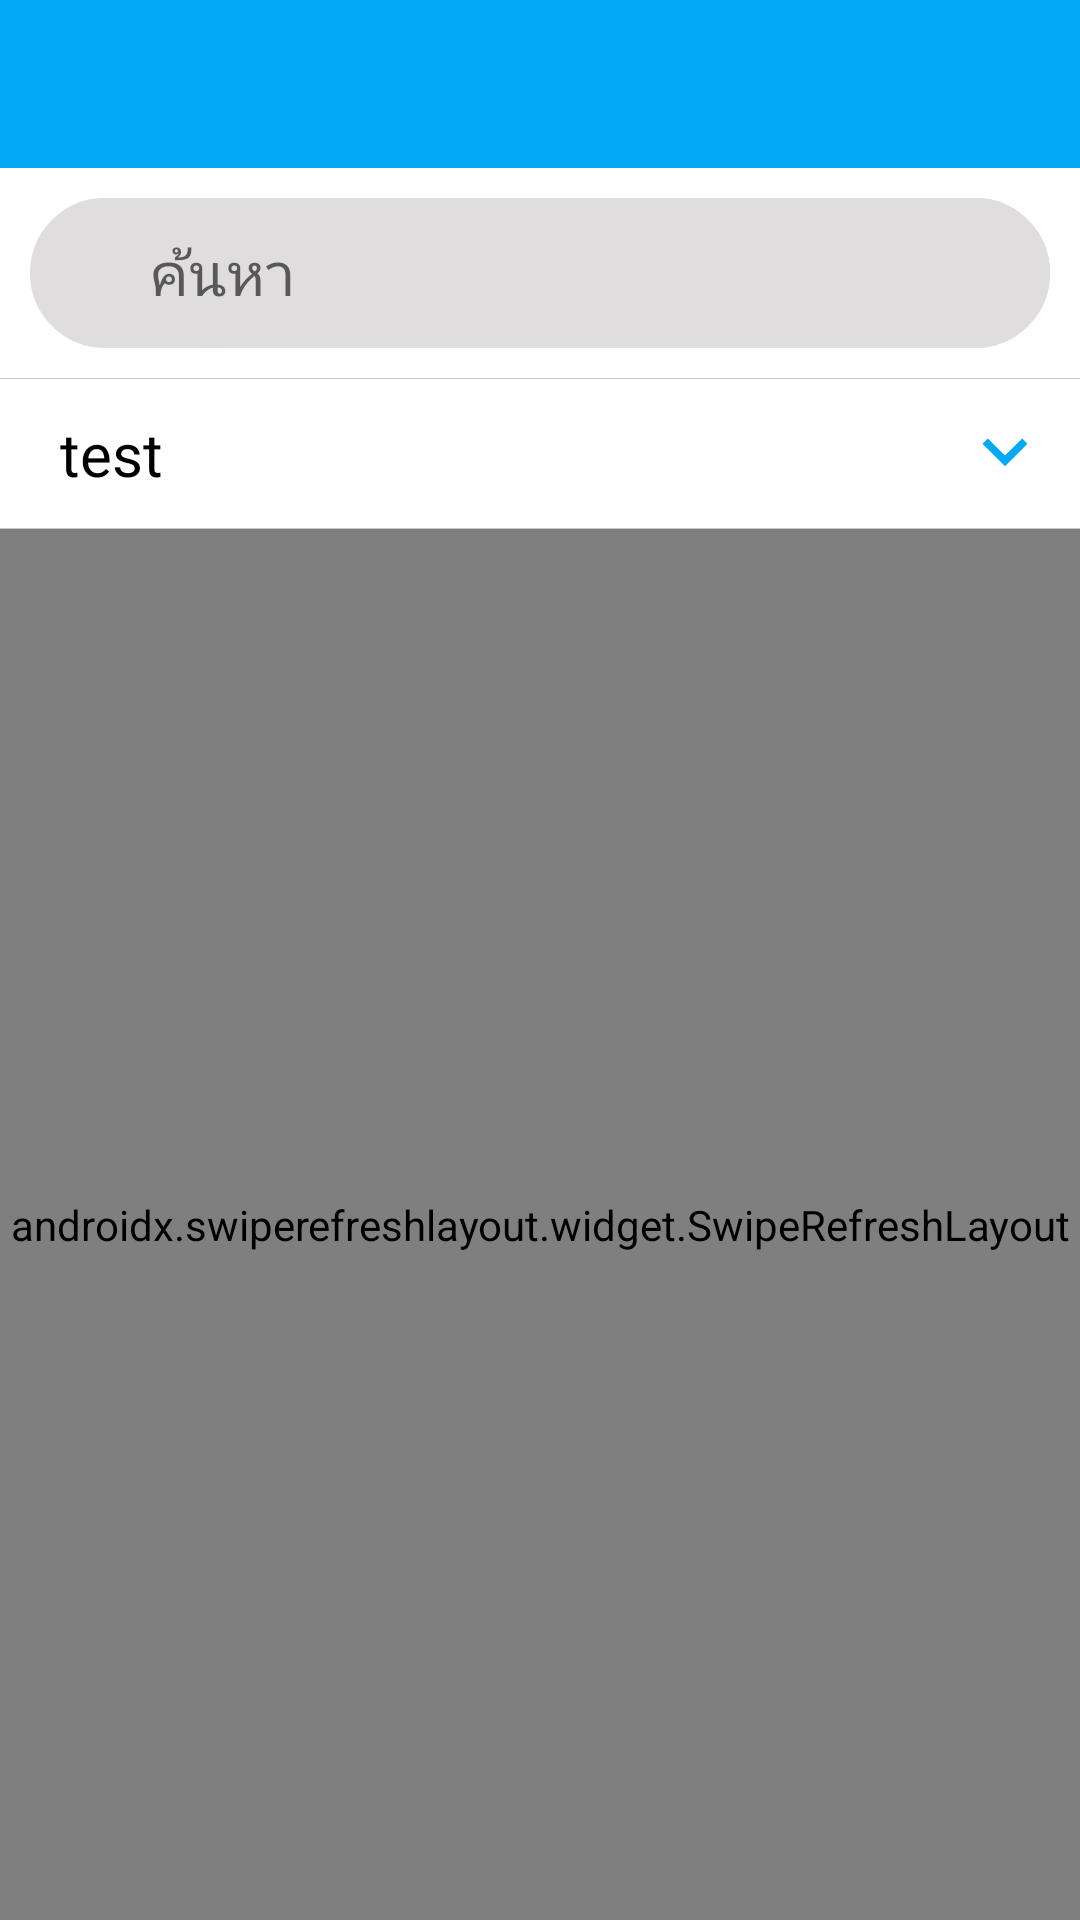

Point at icon controls on the screen. Image size 1080x1920, points as point (x, y).
keyboard arrow down: point (1005, 452)
